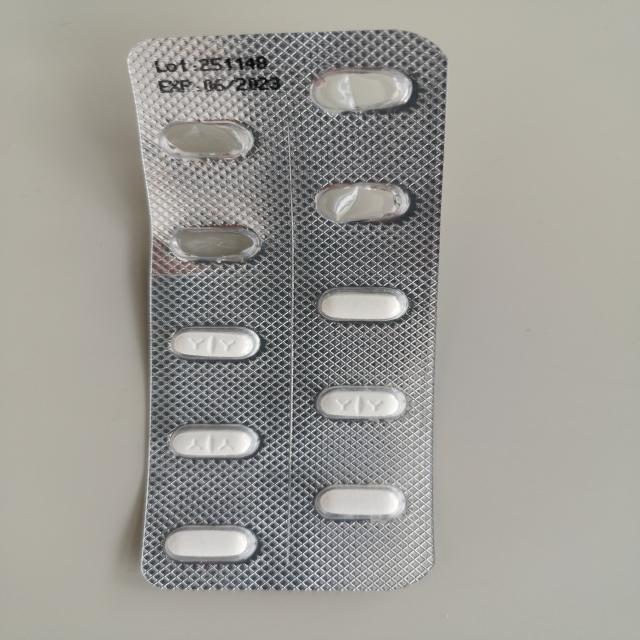Empty: (303, 65, 419, 117), (308, 180, 418, 228), (152, 118, 262, 162), (165, 221, 267, 267)
Pill: (158, 523, 265, 566), (162, 324, 267, 365), (310, 482, 411, 524), (164, 421, 264, 462), (311, 284, 412, 324), (314, 383, 412, 423)
